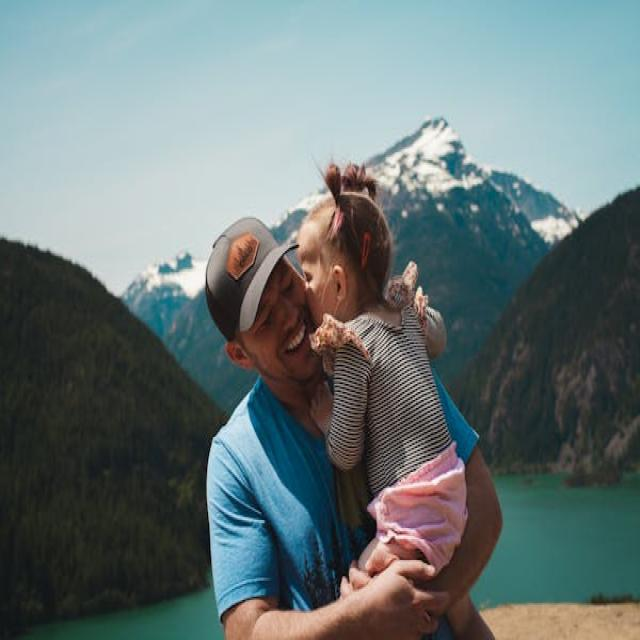Real human 2: (183, 144, 532, 640)
